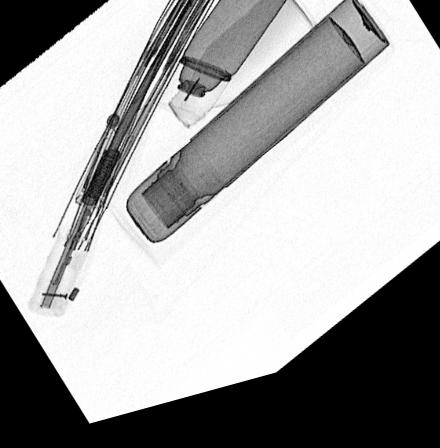Sprayer: (151, 0, 300, 134)
